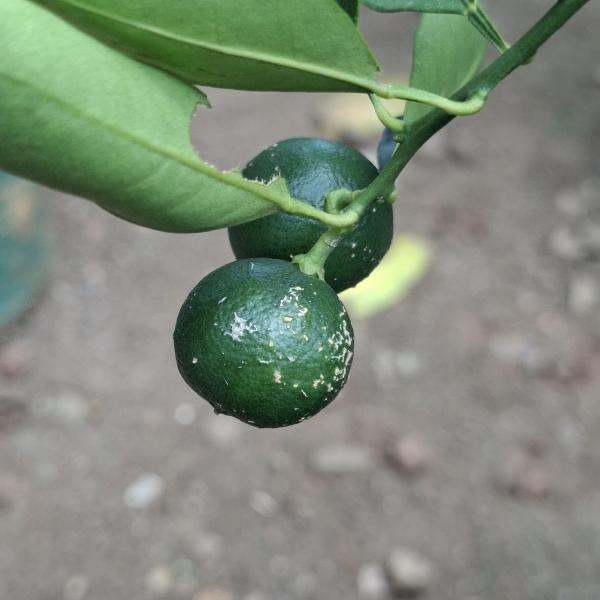Scab: (164, 254, 367, 435), (222, 120, 405, 295)
